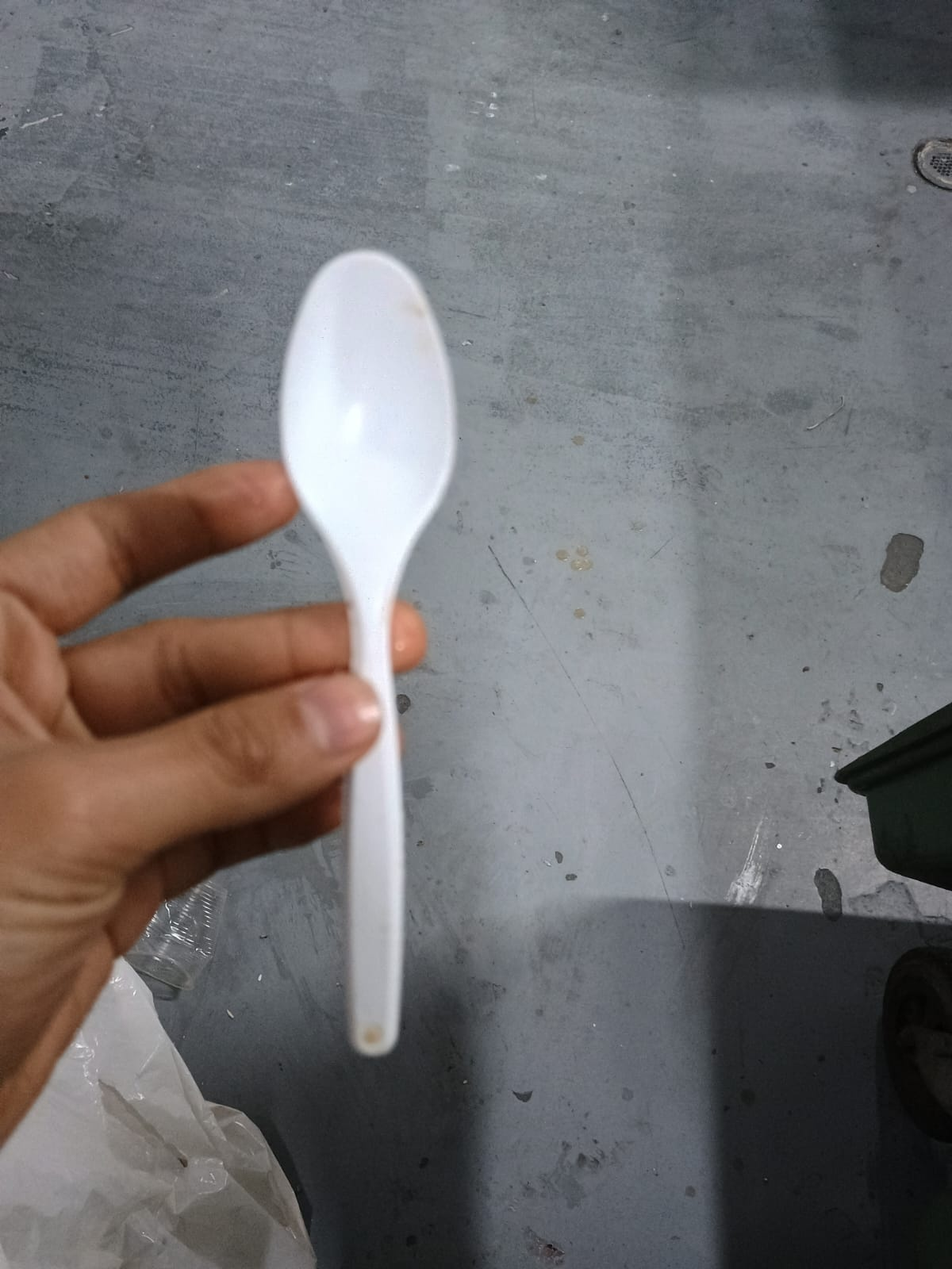Ordinario: (271, 244, 457, 1062)
